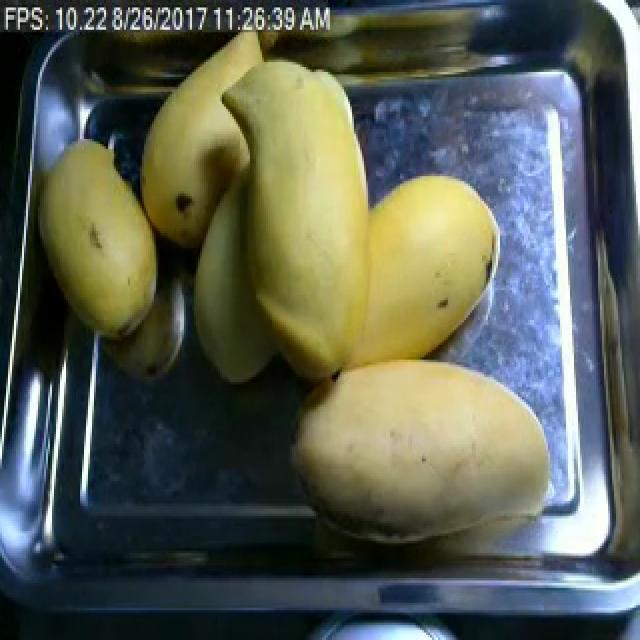fruit: (196, 134, 510, 399), (282, 342, 558, 556), (24, 127, 178, 352), (126, 32, 264, 263)
